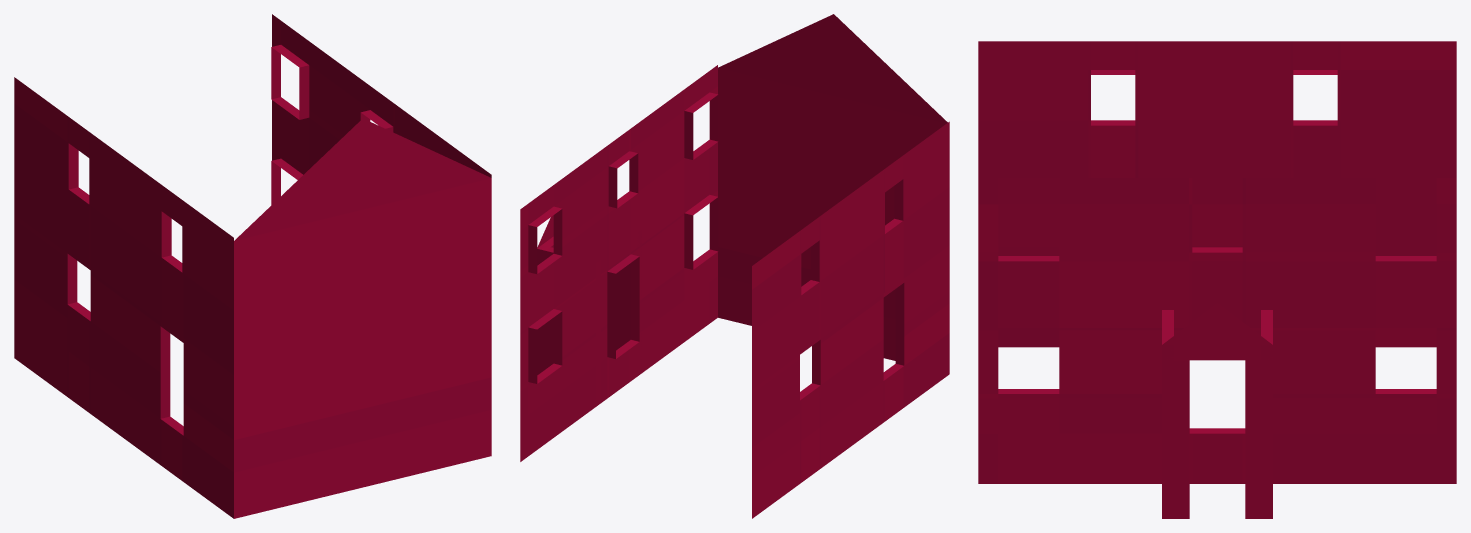
The model's file is SM_Bld_197_Masonry.glb.
The picture shows the model from 3 angles, left to right: view 1: azimuth 30°, elevation 25°; view 2: azimuth 150°, elevation 25°; view 3: azimuth 270°, elevation 25°; orthographic projection. The views are drawn at different scales.
Visible parts, largest first — view 1: SM_Bld_197_Masonry; view 2: SM_Bld_197_Masonry; view 3: SM_Bld_197_Masonry.
Boxes of the visible parts, x1,y1,x2,y2 form: SM_Bld_197_Masonry: [14, 14, 491, 518]; SM_Bld_197_Masonry: [520, 14, 949, 518]; SM_Bld_197_Masonry: [978, 41, 1456, 518].
Bounding box in the file's own units: 7.31 × 7.97 × 8.6.
